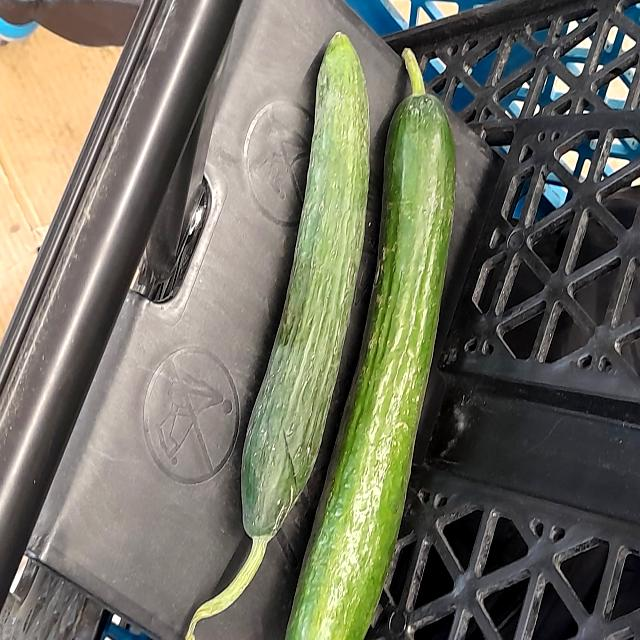cucumber: (284, 22, 482, 640), (218, 24, 382, 570)
